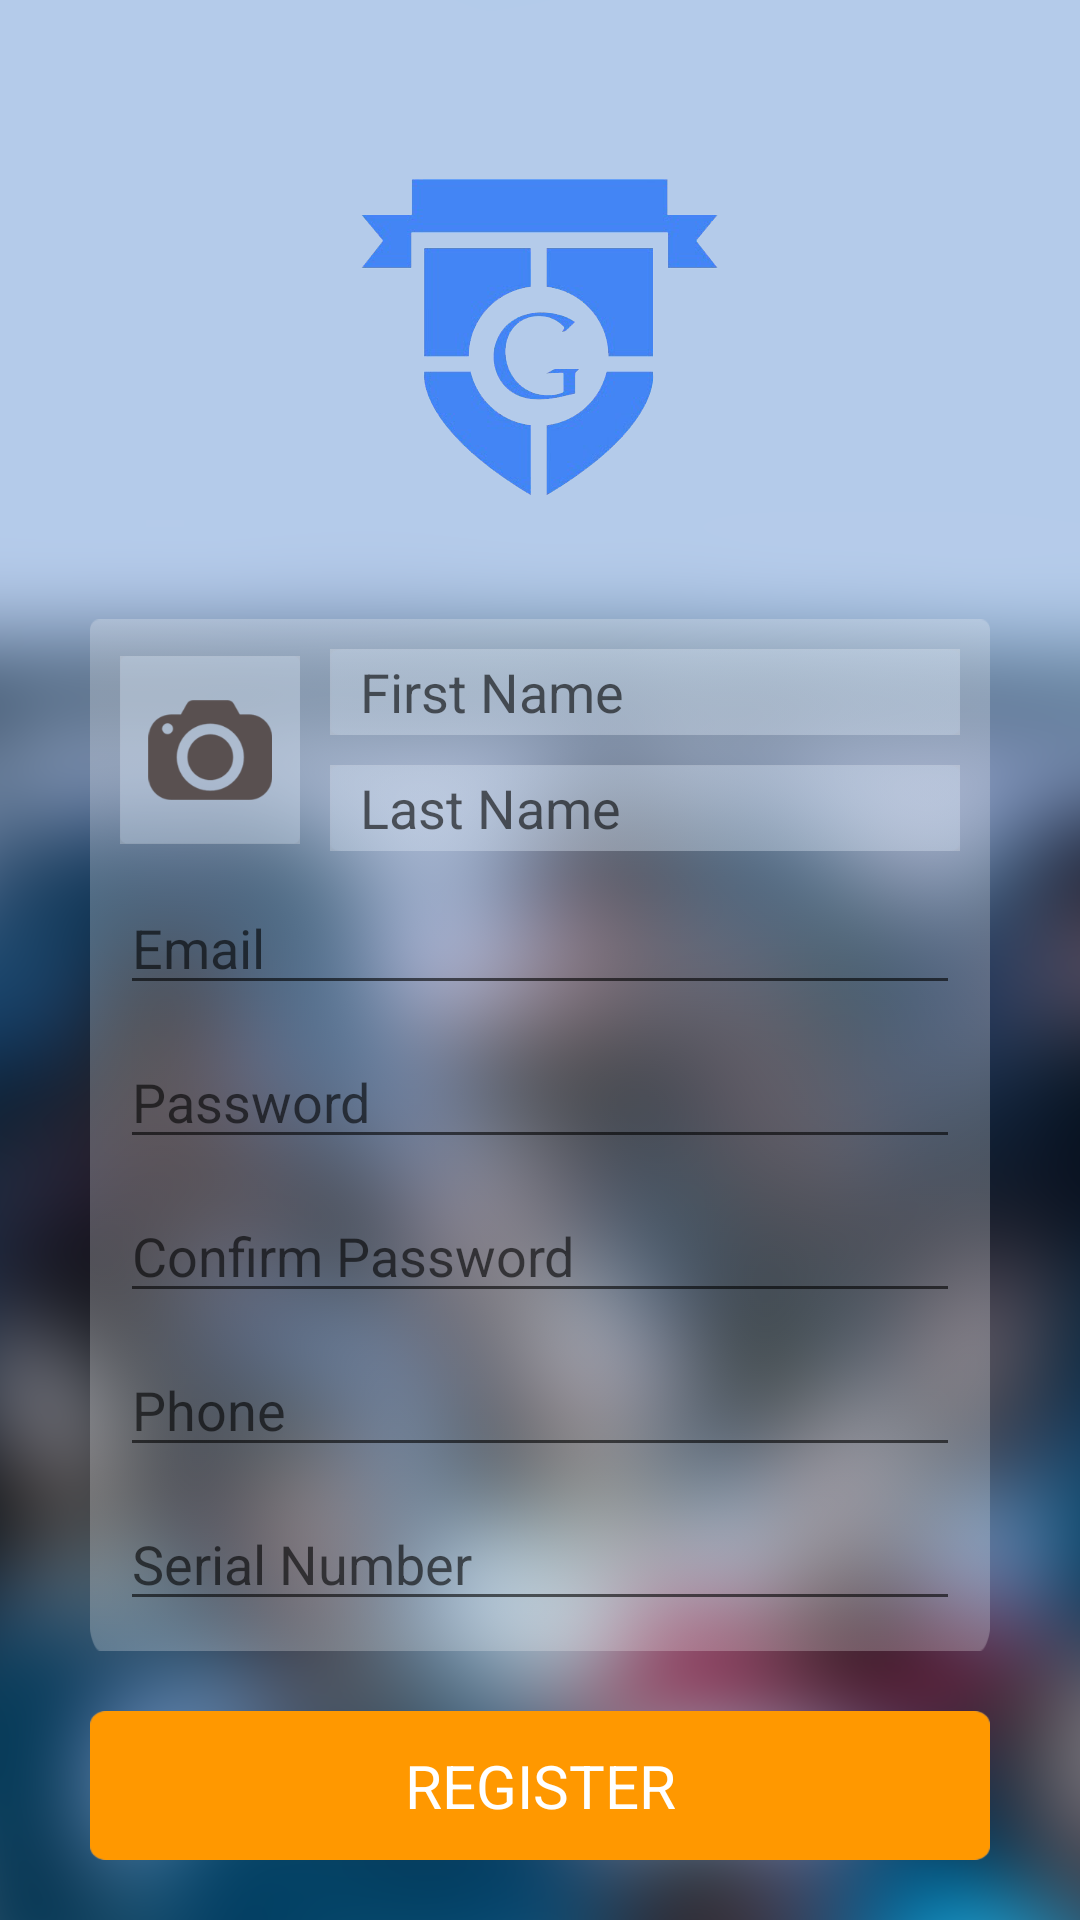

Icon bounding boxes for this 1080px×1920px phone screenshot, format region(x1, y1, x2, y2):
addphoto signup: region(148, 700, 272, 800)
